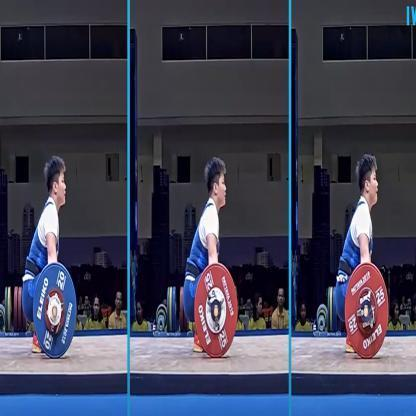barbell: (34, 261, 77, 361), (195, 261, 239, 358), (347, 262, 386, 359)
